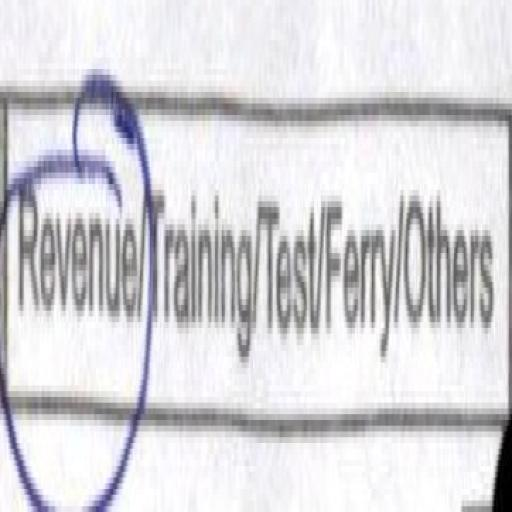check: (0, 40, 145, 512)
